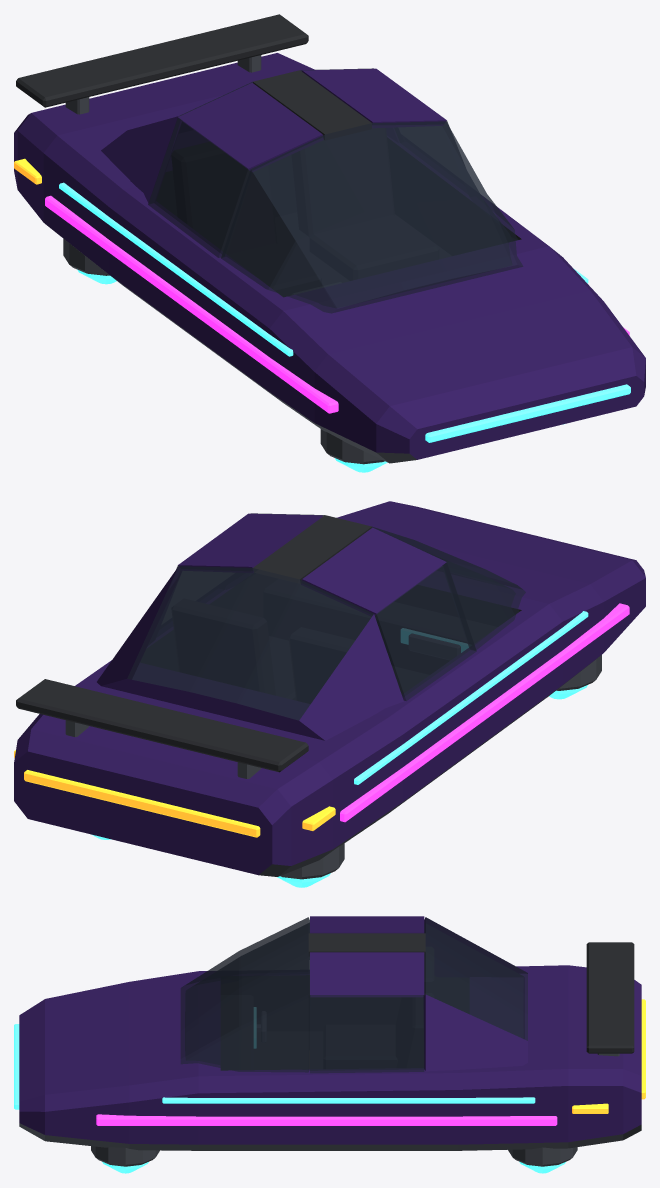
Rendered from neon-hover-car.glb.
3 renders of one model, top to bottom at view 1: azimuth 30°, elevation 25°; view 2: azimuth 150°, elevation 25°; view 3: azimuth 270°, elevation 25°, orthographic. The views are drawn at different scales.
Parts seen in each view (by area): view 1: Body, Windscreen, Door_L, PassengerSeat, DriverSeat, Spoiler_Wing, Cabin_Roof, Door_R, Trim_Side_L, Headlight, Trim_Shoulder_L, Thruster_Pod_FL (+1 smaller); view 2: Body, Cabin_Roof, Door_L, Spoiler_Wing, Dashboard, PassengerSeat, Door_R, Windscreen, Trim_Side_L, Taillight, DriverSeat, Trim_Shoulder_L (+3 smaller); view 3: Body, Windscreen, Cabin_Roof, Door_R, Spoiler_Wing, Trim_Side_R, DriverSeat, Dashboard, Trim_Shoulder_R, Door_L, PassengerSeat, Thruster_Pod_FR (+3 smaller).
Boxes of the visible parts, bbox=[...] form: Body: bbox=[14, 53, 645, 463]; Windscreen: bbox=[221, 121, 523, 313]; Door_L: bbox=[148, 83, 323, 257]; PassengerSeat: bbox=[292, 128, 438, 280]; DriverSeat: bbox=[172, 142, 321, 296]; Spoiler_Wing: bbox=[16, 14, 308, 107]; Cabin_Roof: bbox=[101, 68, 399, 203]; Door_R: bbox=[302, 68, 463, 184]; Trim_Side_L: bbox=[45, 195, 338, 413]; Headlight: bbox=[425, 384, 630, 442]; Trim_Shoulder_L: bbox=[59, 182, 293, 356]; Thruster_Pod_FL: bbox=[320, 429, 384, 464]; Body: bbox=[14, 501, 645, 876]; Cabin_Roof: bbox=[97, 515, 403, 740]; Door_L: bbox=[301, 527, 476, 700]; Spoiler_Wing: bbox=[16, 679, 308, 772]; Dashboard: bbox=[264, 579, 496, 674]; PassengerSeat: bbox=[172, 599, 295, 699]; Door_R: bbox=[160, 513, 322, 628]; Windscreen: bbox=[227, 513, 525, 649]; Trim_Side_L: bbox=[340, 603, 629, 822]; Taillight: bbox=[24, 770, 260, 837]; DriverSeat: bbox=[289, 627, 354, 703]; Trim_Shoulder_L: bbox=[354, 611, 588, 784]; Body: bbox=[19, 965, 641, 1150]; Windscreen: bbox=[180, 917, 310, 1072]; Cabin_Roof: bbox=[308, 917, 527, 1071]; Door_R: bbox=[310, 952, 424, 1073]; Spoiler_Wing: bbox=[586, 942, 634, 1053]; Trim_Side_R: bbox=[96, 1114, 557, 1125]; DriverSeat: bbox=[324, 947, 433, 1068]; Dashboard: bbox=[221, 995, 252, 1069]; Trim_Shoulder_R: bbox=[162, 1097, 535, 1103]; Door_L: bbox=[310, 916, 424, 933]; PassengerSeat: bbox=[397, 993, 433, 1067]; Thruster_Pod_FR: bbox=[91, 1146, 159, 1166].
Size of the model in its own units: 7.72 by 5.7 by 17.27.
